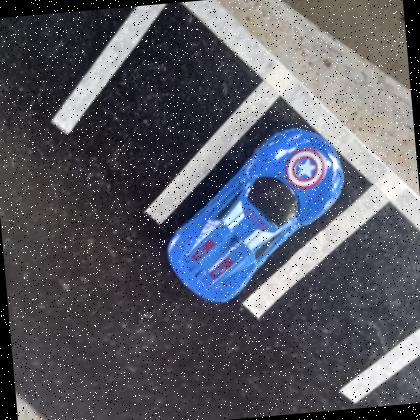Car: (166, 125, 344, 302)
